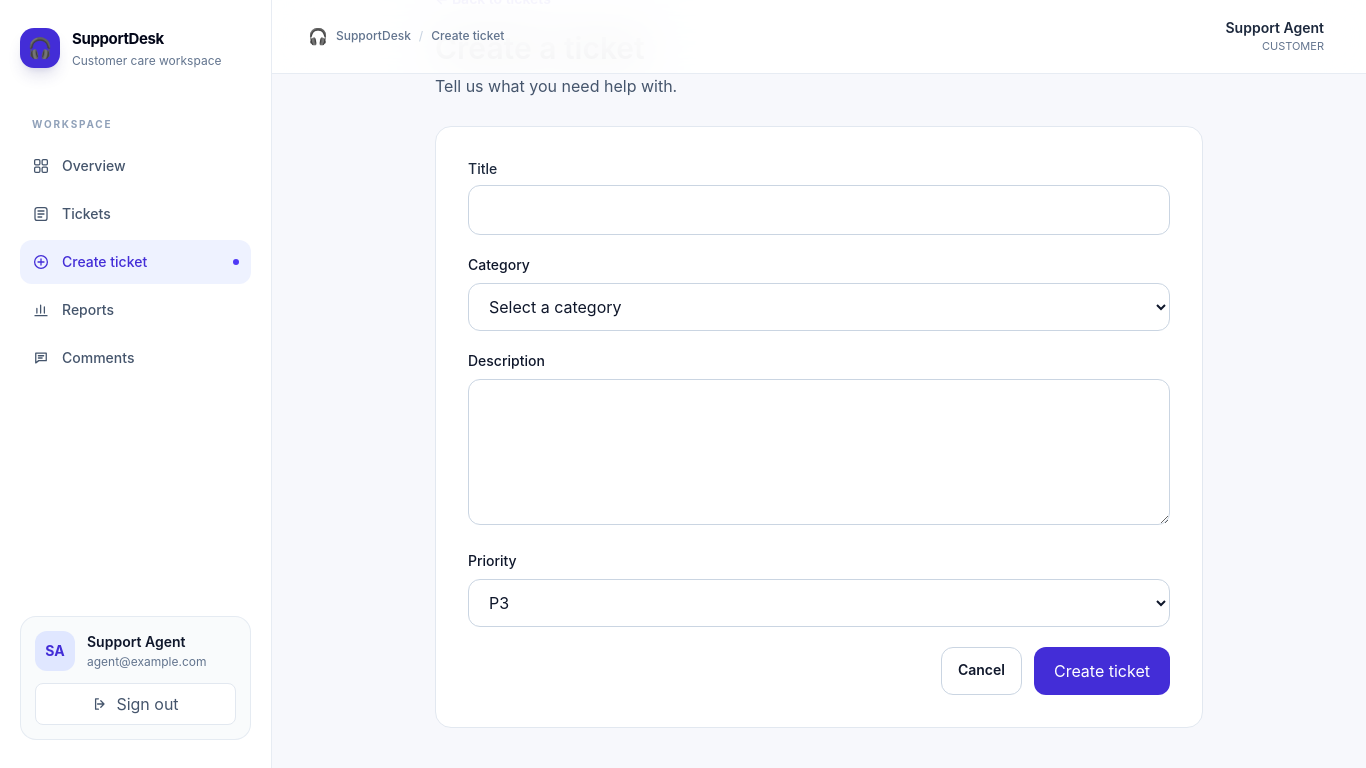
it: SupportDesk frontend foundation › uses the shared create-ticket schema to reject blank input
This screenshot has width=1366, height=768.
(page scrolled)
Click the button "Create ticket".
click(1102, 670)  # box x1=1034 y1=646 x2=1170 y2=694
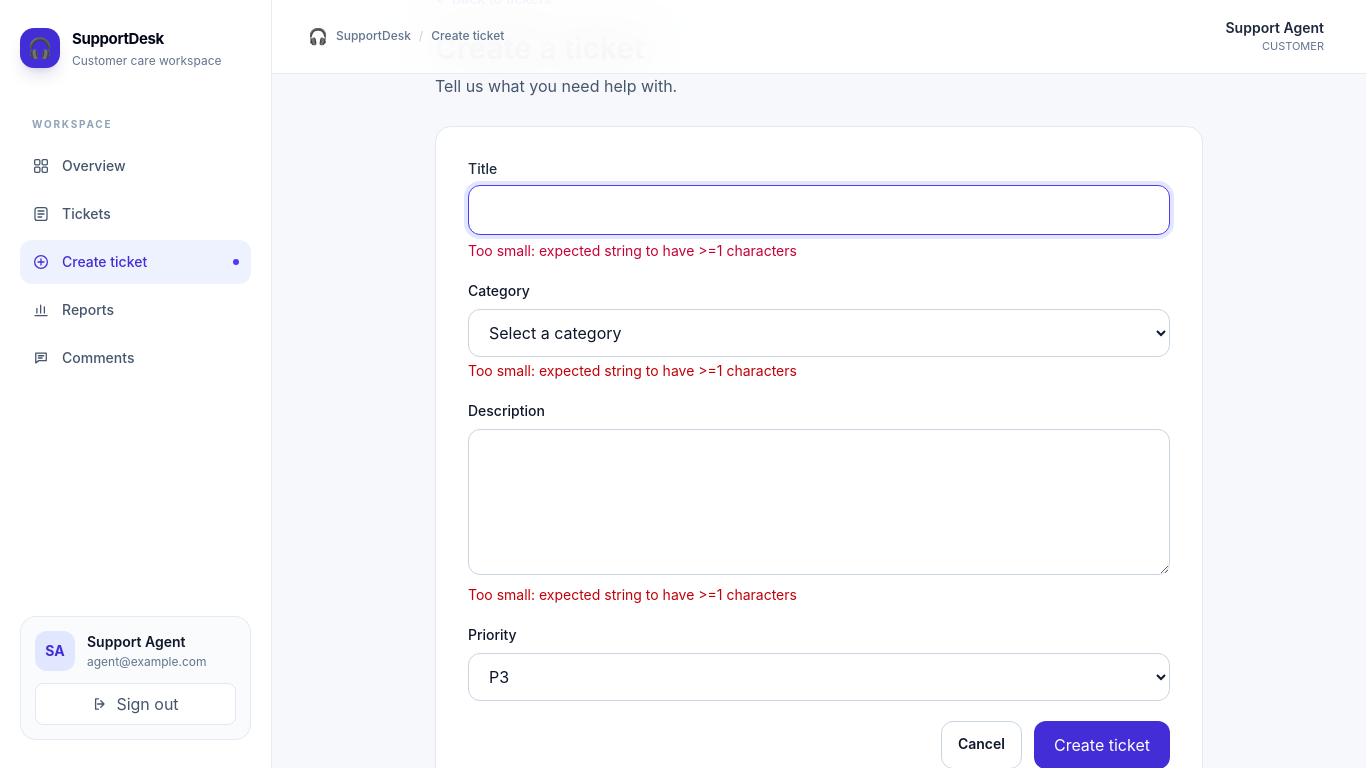
Now the text "Too small: expected string to have >=1 characters" is shown 3 times, box x1=468 y1=242 x2=797 y2=258; x1=468 y1=362 x2=797 y2=378; x1=468 y1=586 x2=797 y2=602
